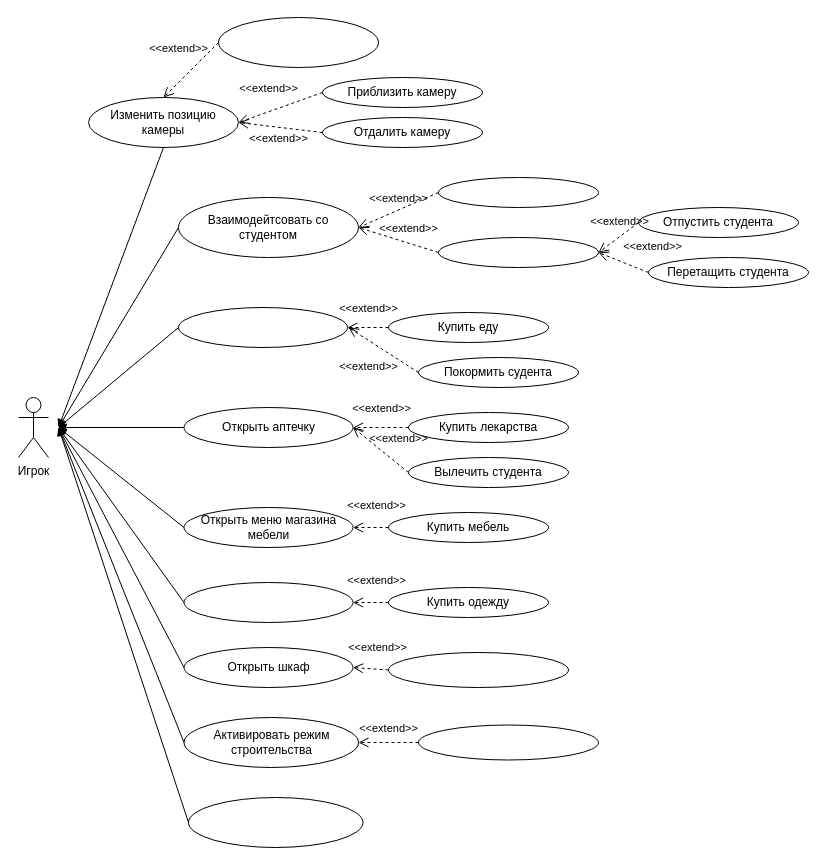
Some shapes in this 826 by 865 pixel diagram are drawn without their labels. Each missing label, with the centre of its shape:
"Играть в мини-игру" belongs at [275,822].
"Изменить интерьер комнаты" belongs at [508,742].
"Изменить одежду студента" belongs at [478,670].
"Открыть меню магазина одежды" belongs at [268,602].
"Открыть холодильник" belongs at [263,327].
"Погладить студента" belongs at [518,192].
"Сдвинуть вверх/вниз/влево/вправо" belongs at [298,42].
"Схватить студента" belongs at [518,252].
